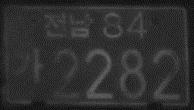2: (83, 47, 114, 99), (151, 49, 181, 101), (53, 47, 82, 98)
4: (125, 10, 148, 39)
8: (118, 48, 146, 99), (102, 11, 123, 38)
가: (12, 47, 46, 86)
전남_O: (42, 12, 93, 37)
